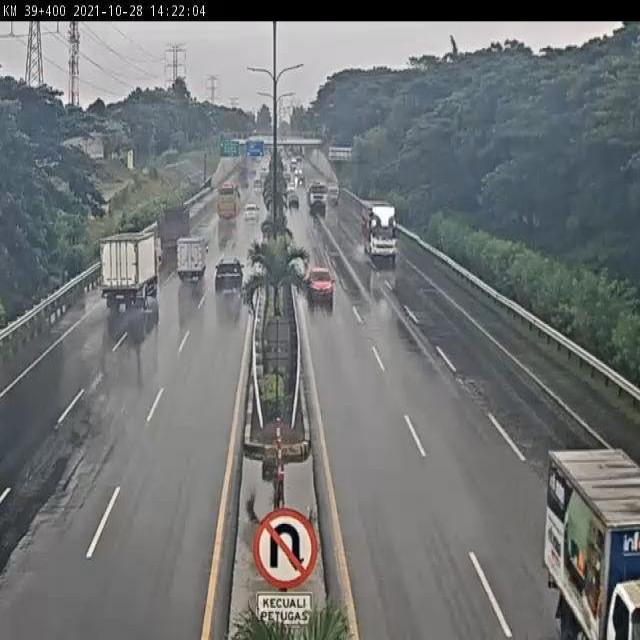big bus: (215, 183, 242, 221)
car: (212, 257, 244, 300), (304, 262, 334, 302), (242, 201, 262, 224)
truck-l-: (97, 230, 161, 310), (360, 203, 398, 261), (157, 206, 191, 253)
truck-s-: (544, 445, 640, 640), (175, 235, 208, 284)
truck-xl-: (306, 178, 329, 214)
